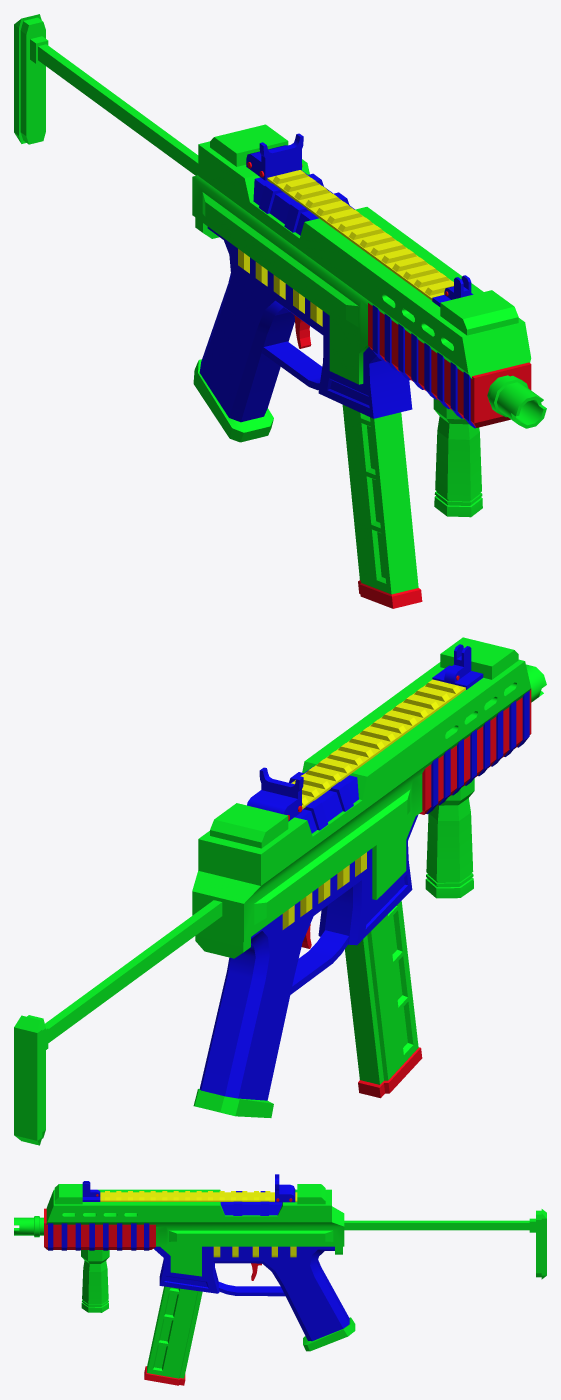
The model's file is LSMG.glb.
3 renders of one model, top to bottom at view 1: azimuth 30°, elevation 25°; view 2: azimuth 150°, elevation 25°; view 3: azimuth 270°, elevation 25°, orthographic. The views are drawn at different scales.
Parts seen in each view (by area): view 1: Light; view 2: Light; view 3: Light.
Boxes of the visible parts, x1,y1,x2,y2 form: Light: [14, 14, 546, 608]; Light: [14, 637, 546, 1145]; Light: [14, 1174, 546, 1385].
Bounding box in the file's own units: 0.0367 × 0.2159 × 0.5117.
